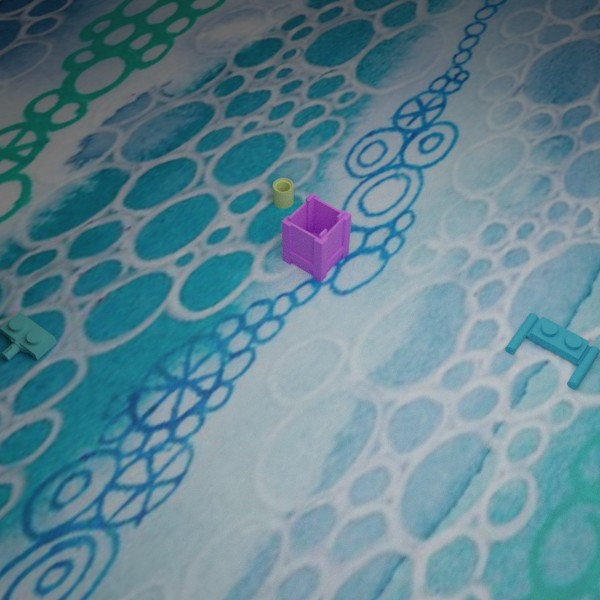lego: (505, 313, 600, 389), (281, 192, 351, 282), (0, 311, 57, 361), (272, 178, 293, 208)
